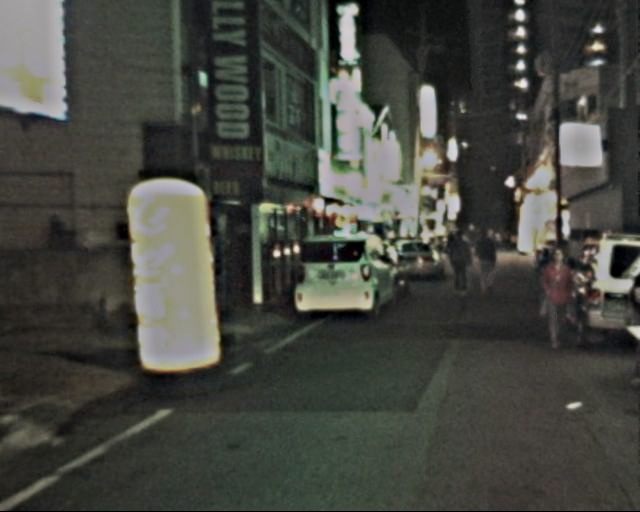person: (537, 246, 581, 351), (447, 228, 479, 299), (472, 227, 503, 297)
